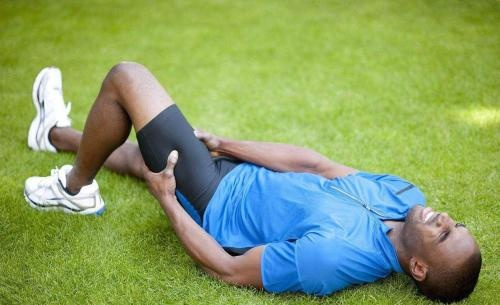falling: (15, 29, 488, 305)
